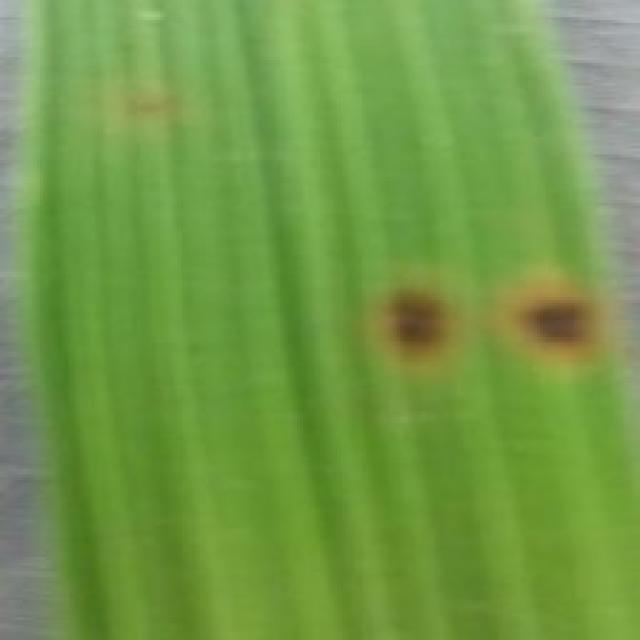Rice___Brown_Spot: (19, 0, 637, 637)
